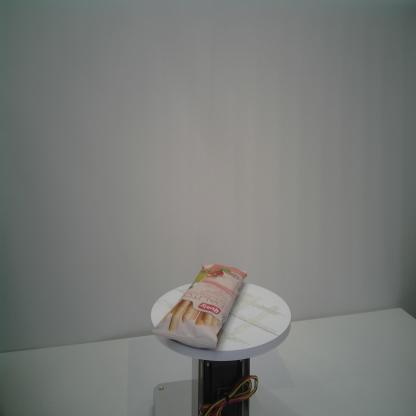Dessert: (152, 264, 247, 349)
